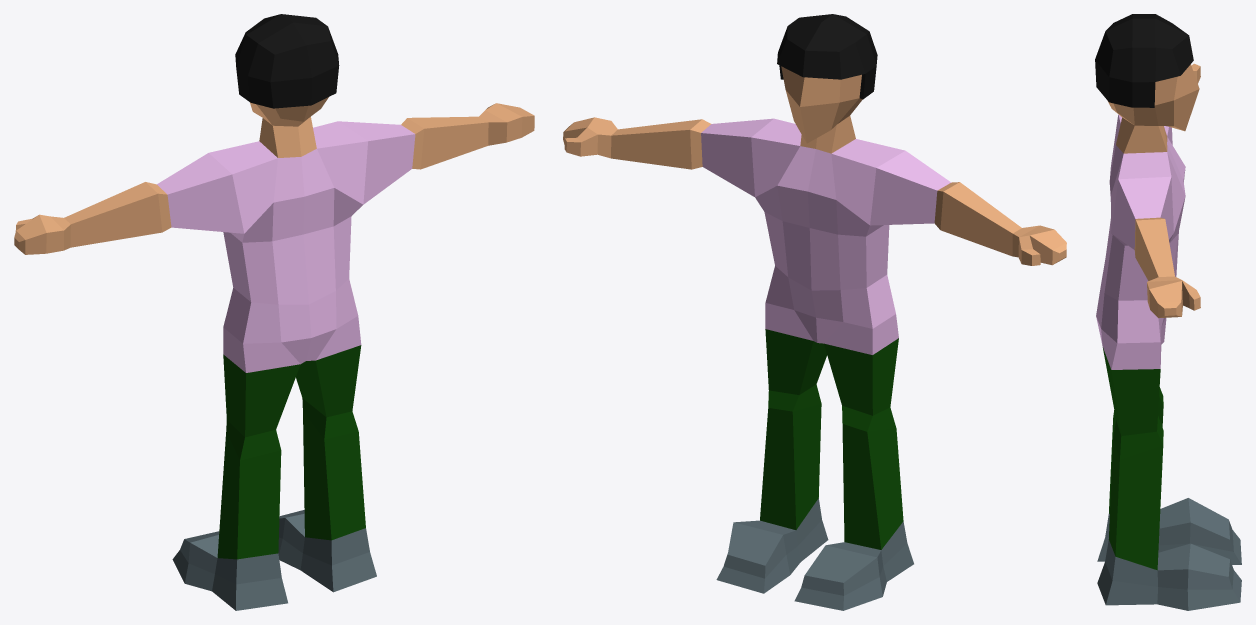
The model's file is NPCS4.fbx.
3 renders of one model, left to right at view 1: azimuth 30°, elevation 25°; view 2: azimuth 150°, elevation 25°; view 3: azimuth 270°, elevation 25°, orthographic. The views are drawn at different scales.
Visible parts, largest first — view 1: NPC.004; view 2: NPC.004; view 3: NPC.004.
Part boxes in pixels (left/top/right/bottom): NPC.004: left=14, top=14, right=534, bottom=610; NPC.004: left=563, top=14, right=1066, bottom=610; NPC.004: left=1095, top=14, right=1241, bottom=610.
Size of the model in its own units: 3.76 by 0.9411 by 3.92.
